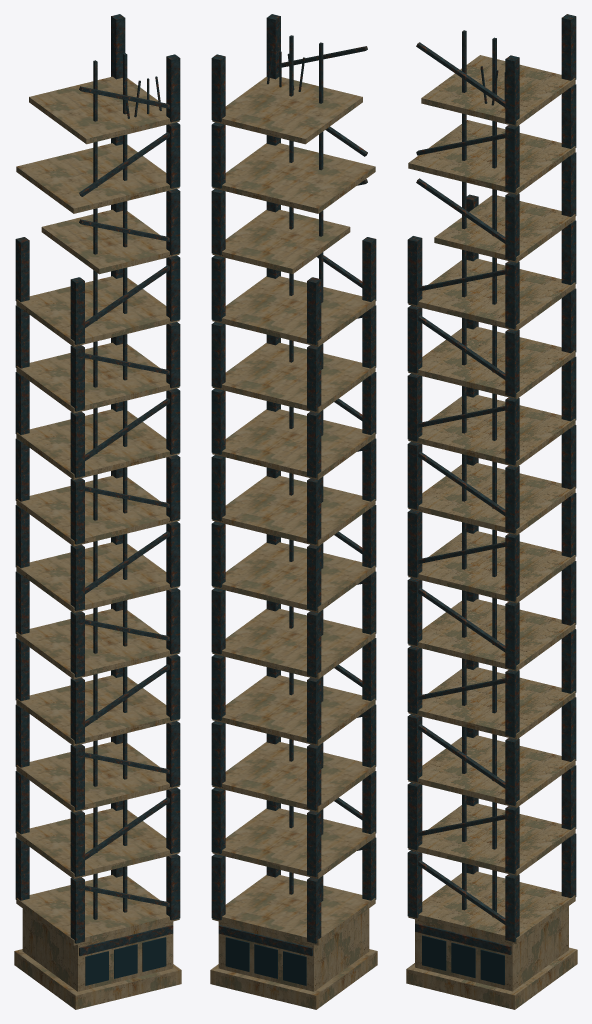
File: city-shaft.glb
3 views of the same model, side by side, from view 1: azimuth 30°, elevation 25°; view 2: azimuth 150°, elevation 25°; view 3: azimuth 330°, elevation 25° (orthographic). The views are drawn at different scales.
Parts seen in each view (by area): view 1: city-shaft-concrete, city-shaft-steel (×2); view 2: city-shaft-concrete, city-shaft-steel (×2); view 3: city-shaft-concrete, city-shaft-steel (×2).
Boxes of the visible parts, left/top/right/bottom form: city-shaft-concrete: left=14, top=76, right=181, bottom=1009; city-shaft-steel (×2): left=15, top=14, right=180, bottom=985; city-shaft-concrete: left=210, top=77, right=377, bottom=1009; city-shaft-steel (×2): left=211, top=14, right=376, bottom=985; city-shaft-concrete: left=406, top=55, right=577, bottom=1009; city-shaft-steel (×2): left=407, top=14, right=576, bottom=985.
Size of the model in its own units: 5 by 41.76 by 5.
Materials: 3 (2 with a texture image).
